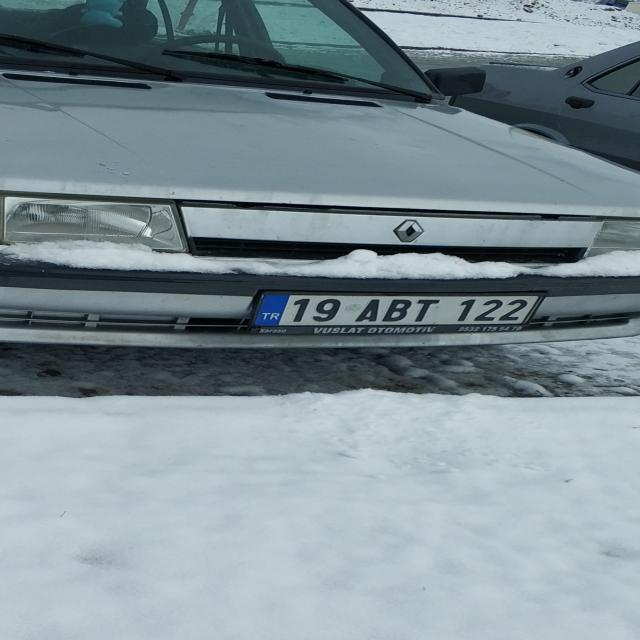plate: (251, 293, 543, 326)
